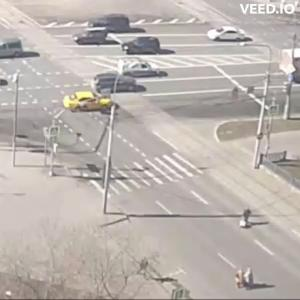car: (95, 74, 148, 97), (64, 91, 111, 113), (118, 37, 167, 56), (90, 13, 139, 32), (122, 63, 169, 80), (210, 27, 254, 44), (73, 30, 109, 47), (1, 38, 27, 58)
